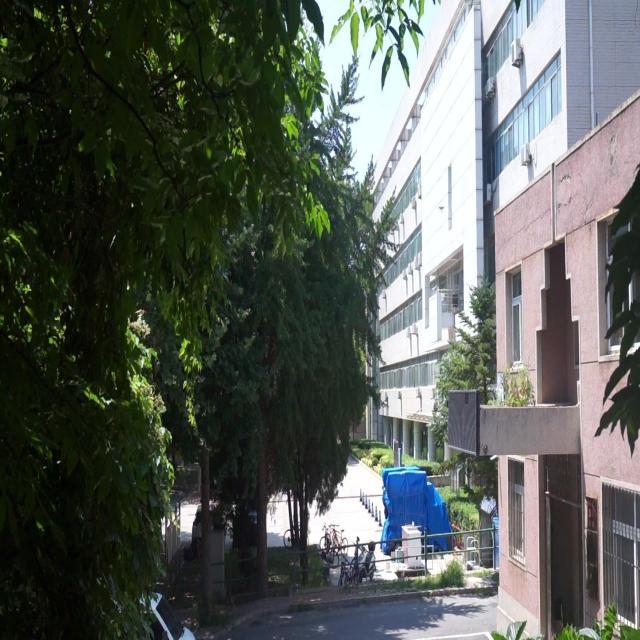UAV: (438, 205, 445, 213)
